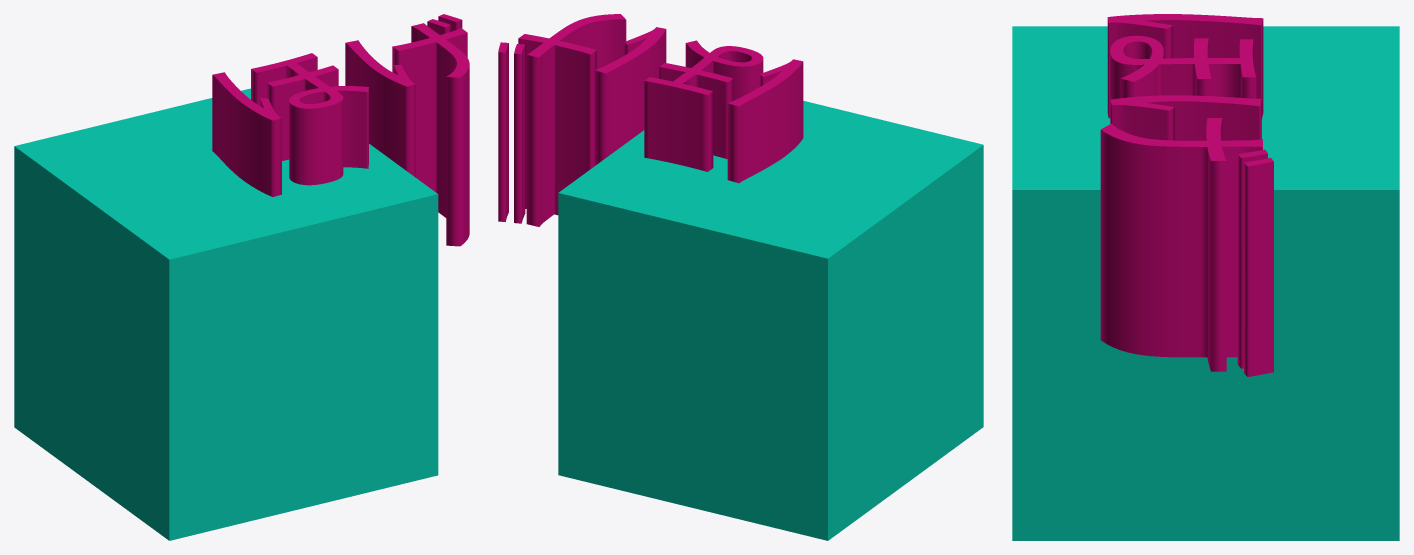
The picture shows the model from 3 angles, left to right: view 1: azimuth 30°, elevation 25°; view 2: azimuth 150°, elevation 25°; view 3: azimuth 270°, elevation 25°; orthographic projection. The views are drawn at different scales.
Visible parts, largest first — view 1: Cube, テキスト; view 2: Cube, テキスト; view 3: Cube, テキスト.
Part boxes in pixels (box(x1,y1,x2,y2)): Cube: box(14, 88, 438, 540); テキスト: box(212, 14, 469, 246); Cube: box(558, 101, 983, 540); テキスト: box(498, 14, 803, 226); Cube: box(1012, 26, 1399, 540); テキスト: box(1100, 14, 1273, 376).
Size of the model in its own units: 2.88 by 2.54 by 2.
